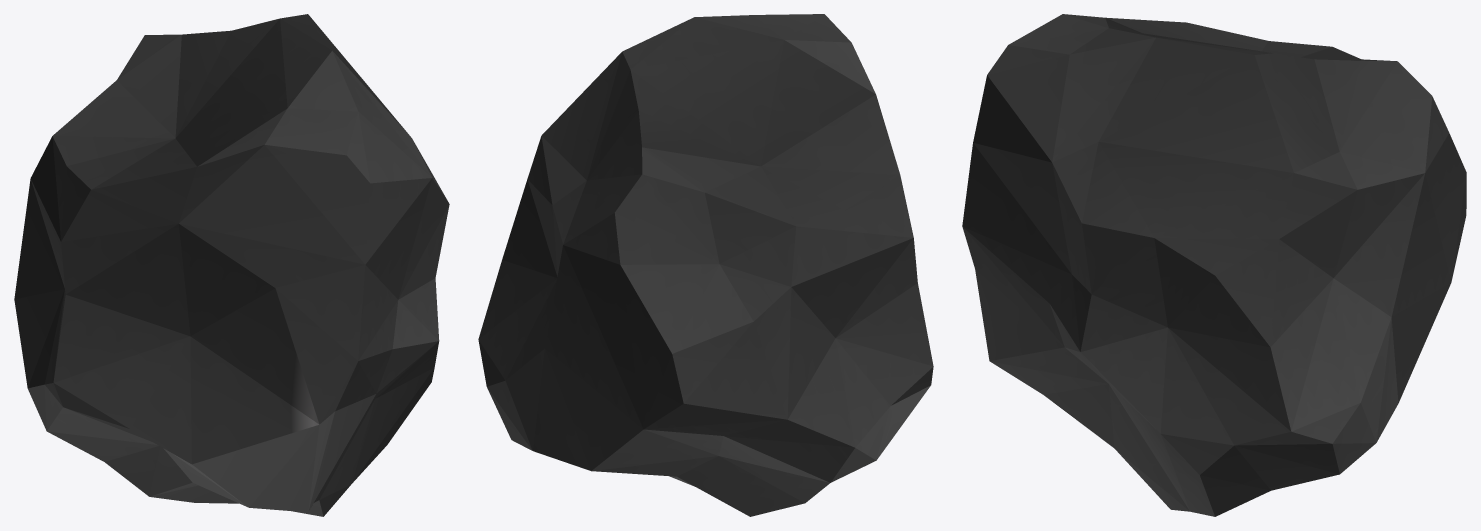
File: rock2.fbx
3 renders of one model, left to right at view 1: azimuth 30°, elevation 25°; view 2: azimuth 150°, elevation 25°; view 3: azimuth 270°, elevation 25°, orthographic. The views are drawn at different scales.
Parts seen in each view (by area): view 1: Cube; view 2: Cube; view 3: Cube.
Part boxes in pixels (left/top/right/bottom): Cube: left=14, top=14, right=449, bottom=516; Cube: left=478, top=14, right=933, bottom=516; Cube: left=962, top=14, right=1466, bottom=516.
Size of the model in its own units: 358 by 388 by 375.
